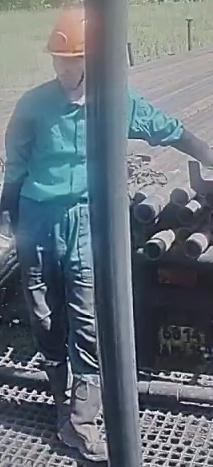gloves: (0, 227, 16, 265), (198, 141, 213, 171)
helmet: (44, 8, 86, 57)
vest: (0, 81, 91, 234)
